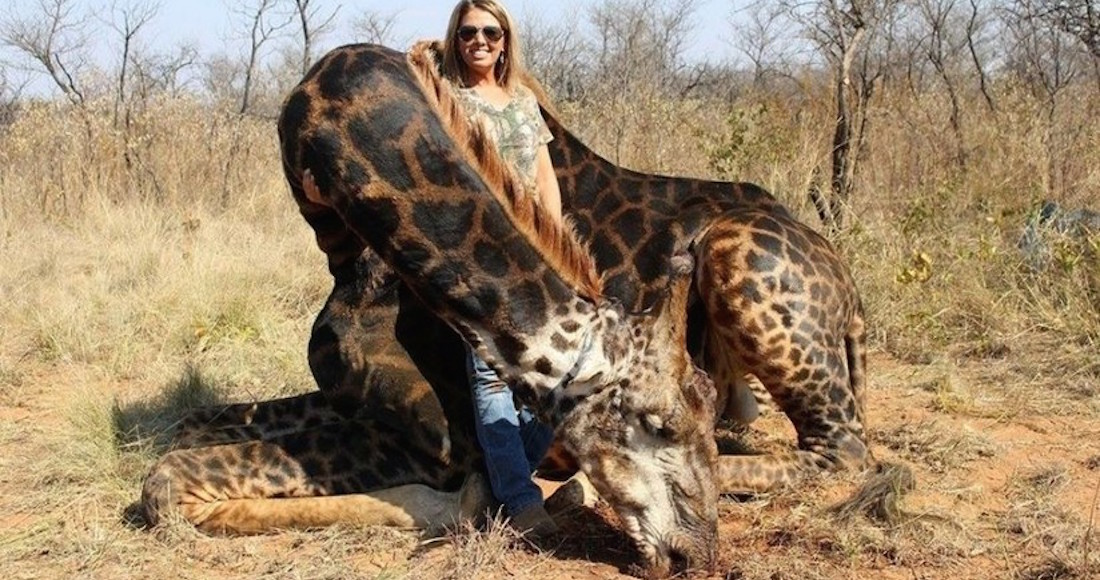Jirafa: (522, 246, 736, 580)
